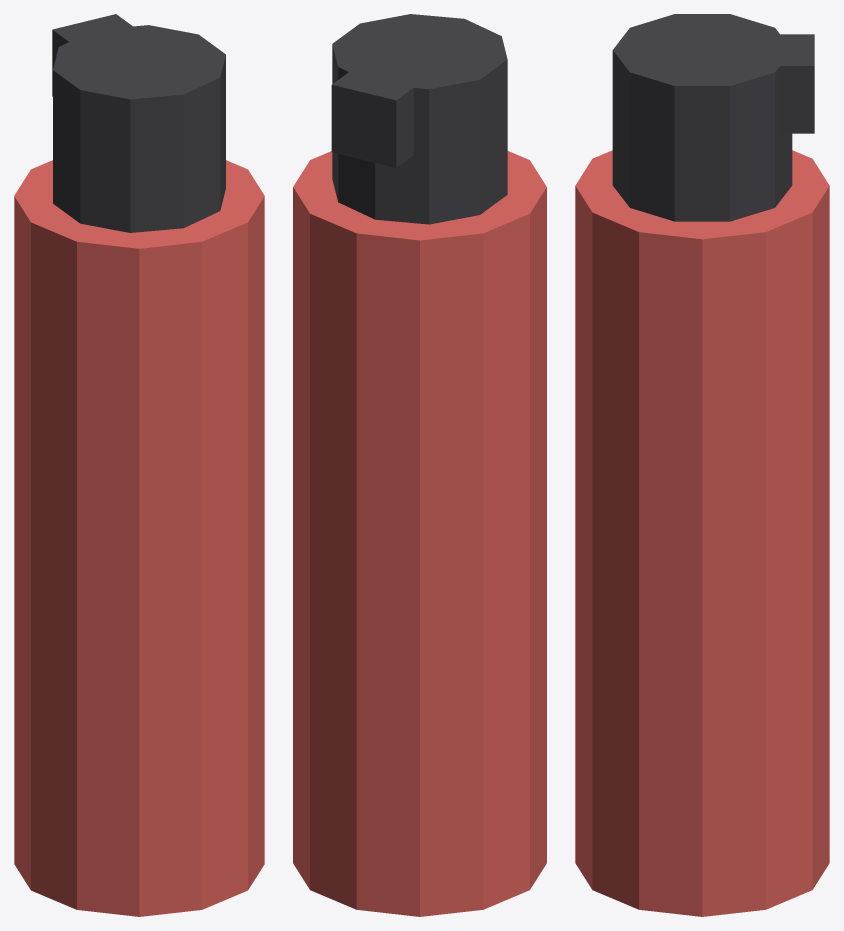
File: pepper_spray.glb
3 views of the same model, side by side, from view 1: azimuth 30°, elevation 25°; view 2: azimuth 150°, elevation 25°; view 3: azimuth 270°, elevation 25° (orthographic).
Parts seen in each view (by area): view 1: pepper_spray; view 2: pepper_spray; view 3: pepper_spray.
Boxes of the visible parts, x1=… form: pepper_spray: x1=14, y1=14, x2=264, y2=916; pepper_spray: x1=293, y1=14, x2=546, y2=916; pepper_spray: x1=575, y1=14, x2=829, y2=916.
Bounding box in the file's own units: 0.034 × 0.12 × 0.034.
